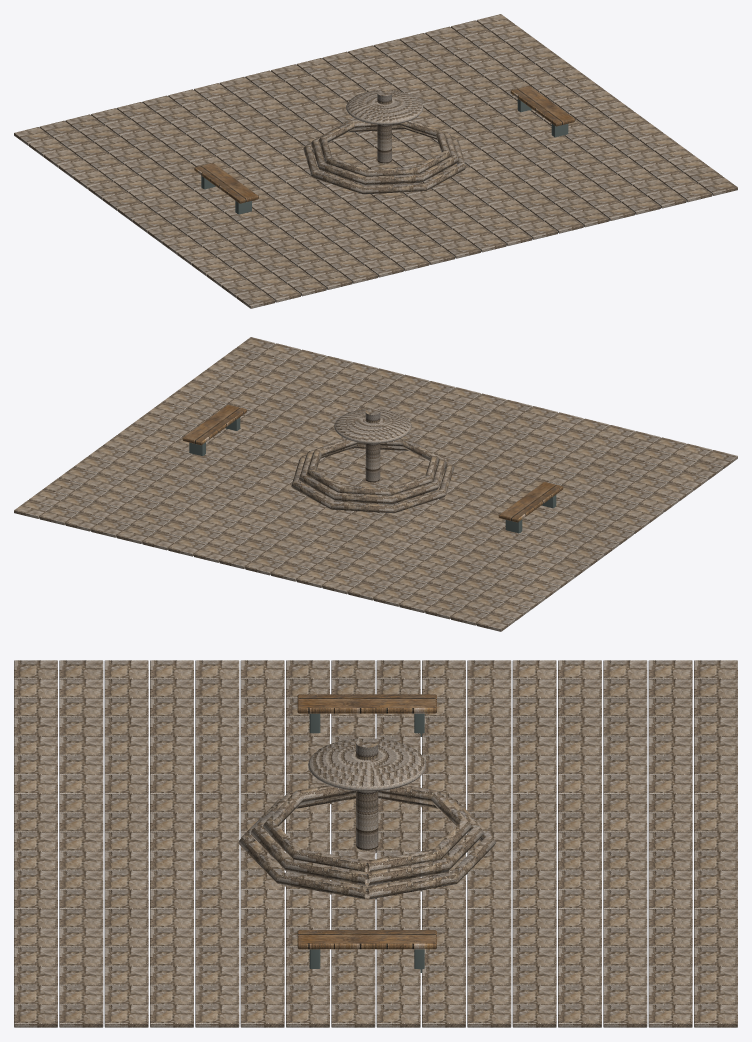
File: port_plaza.glb
The picture shows the model from 3 angles, top to bottom: view 1: azimuth 30°, elevation 25°; view 2: azimuth 150°, elevation 25°; view 3: azimuth 270°, elevation 25°; orthographic projection. The views are drawn at different scales.
Visible parts, largest first — view 1: plaza_limestone, public_bench, bench_support; view 2: plaza_limestone, public_bench, bench_support; view 3: plaza_limestone, public_bench, bench_support.
Part boxes in pixels (x1,y1,x2,y2): plaza_limestone: (14,14,737,308); public_bench: (194,86,575,203); bench_support: (201,99,568,214); plaza_limestone: (14,337,737,631); public_bench: (182,404,563,522); bench_support: (189,417,556,533); plaza_limestone: (14,660,737,1027); public_bench: (297,694,436,949); bench_support: (309,713,424,972).
Size of the model in its own units: 24.66 by 3.42 by 20.76.
3 materials, 2 textured.
